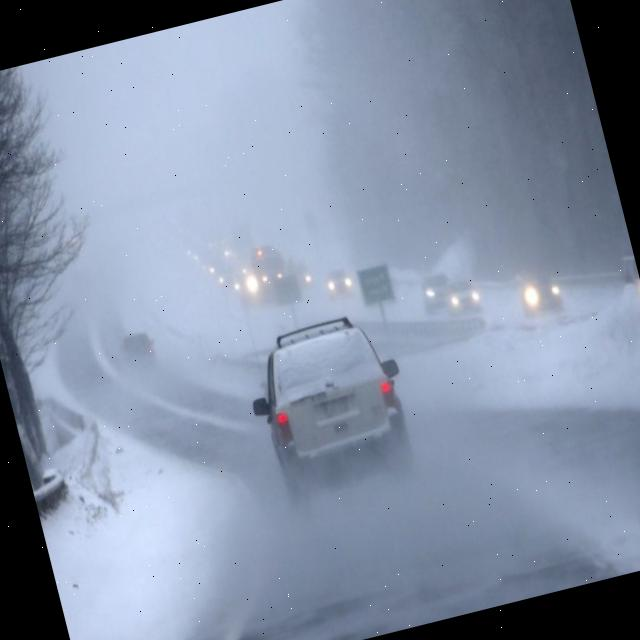car: (243, 308, 415, 478), (516, 266, 567, 322), (116, 329, 160, 373), (444, 274, 483, 320), (419, 267, 456, 309), (322, 266, 355, 300)
